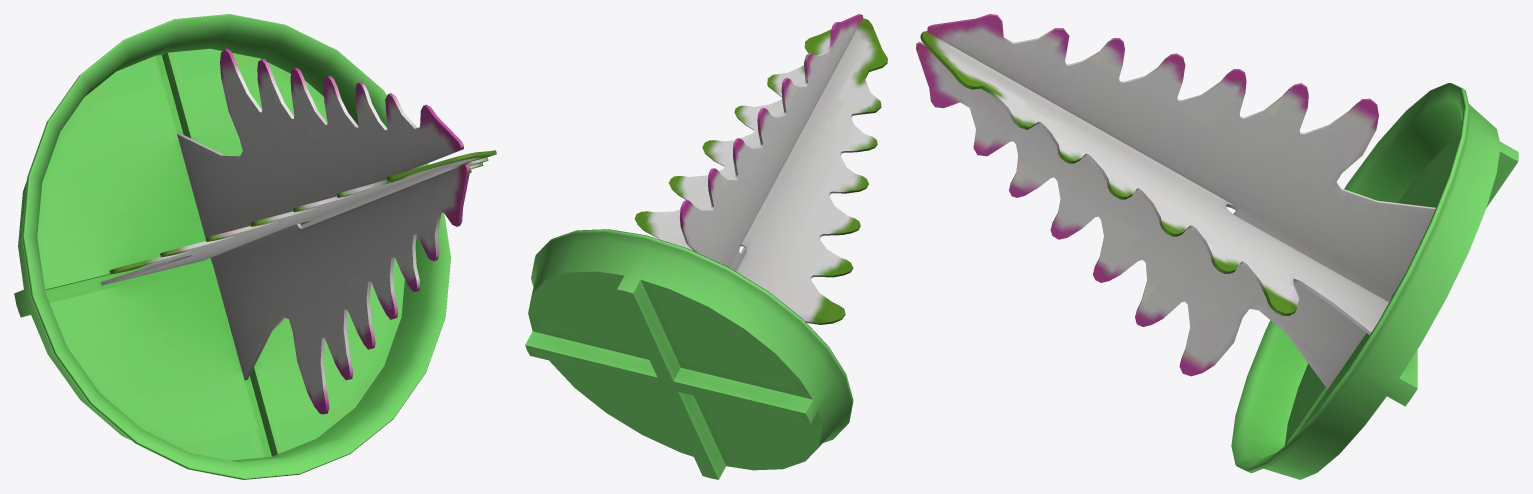
The model's file is GTPaperTree.obj.
The picture shows the model from 3 angles, left to right: view 1: azimuth 30°, elevation 25°; view 2: azimuth 150°, elevation 25°; view 3: azimuth 270°, elevation 25°; orthographic projection. The views are drawn at different scales.
Parts seen in each view (by area): view 1: zhiShuKaiHua; view 2: zhiShuKaiHua; view 3: zhiShuKaiHua.
Boxes of the visible parts, <box> form: zhiShuKaiHua: <box>14,14,496,479</box>; zhiShuKaiHua: <box>525,14,887,479</box>; zhiShuKaiHua: <box>916,14,1518,479</box>.
Size of the model in its own units: 1.28 by 1.44 by 1.73.
